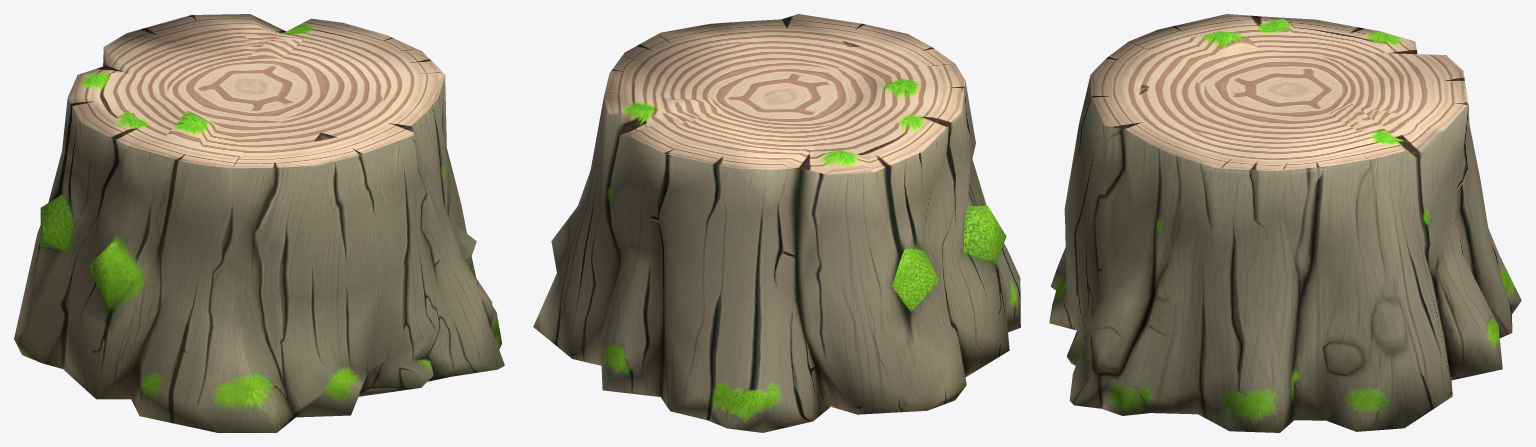
Rendered from p_stump.glb.
3 renders of one model, left to right at view 1: azimuth 30°, elevation 25°; view 2: azimuth 150°, elevation 25°; view 3: azimuth 270°, elevation 25°, orthographic. The views are drawn at different scales.
Parts seen in each view (by area): view 1: Mesh_0; view 2: Mesh_0; view 3: Mesh_0.
Boxes of the visible parts, box(x1,y1,x2,y2) form: Mesh_0: box(14, 14, 504, 432); Mesh_0: box(533, 14, 1020, 432); Mesh_0: box(1049, 14, 1521, 432).
Size of the model in its own units: 1.69 by 1 by 1.68.
1 material, 1 textured.
